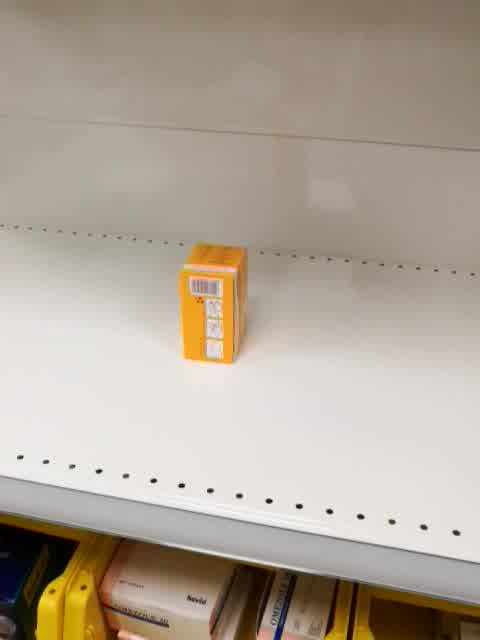jasminetea: (177, 242, 249, 366)
